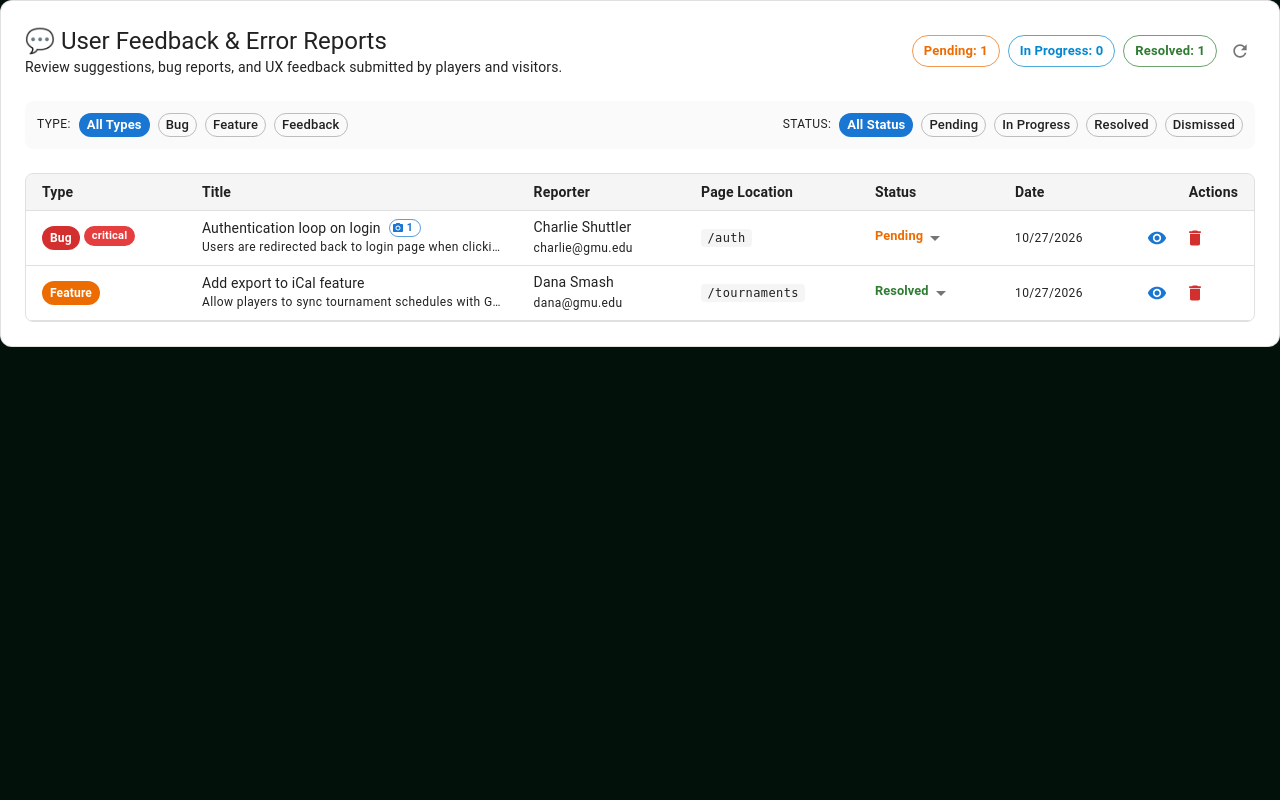
Test: FeedbackManager Component › opens detailed inspection modal and displays attached pictures
Expected: the text "Authentication loop on login" is shown, [202,218,381,238]
Click the button named "View report details" in the row of "critical": {"x": 1157, "y": 238} [1142,223,1172,253]
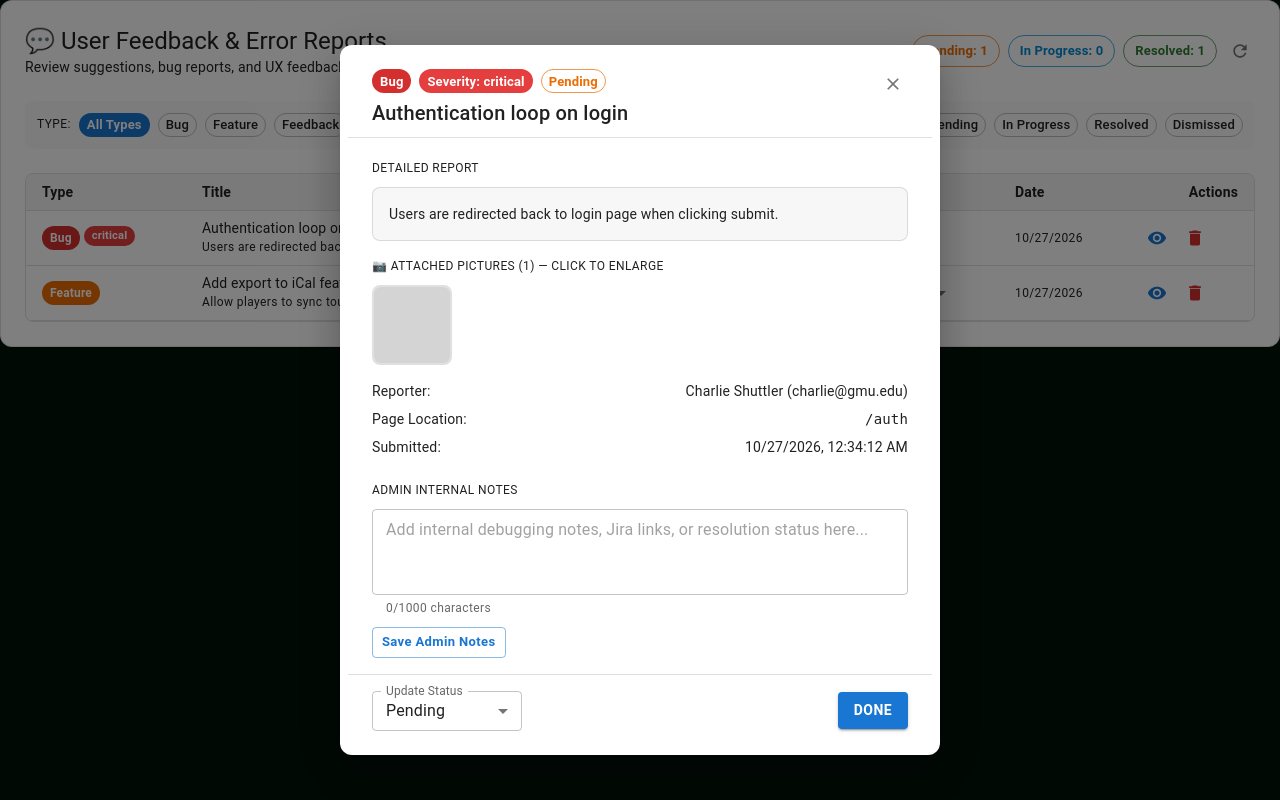
Now the text "Detailed Report" is shown, box [372,161,479,175]
Now the text "Users are redirected back to login page when clicking submit." is shown 2 times, box [202,238,502,258]; [389,206,778,222]
Now the text "📷 Attached Pictures (1) — Click to enlarge" is shown, box [372,259,664,273]
